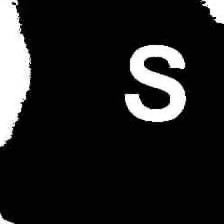LTR_S: (121, 35, 191, 126)
